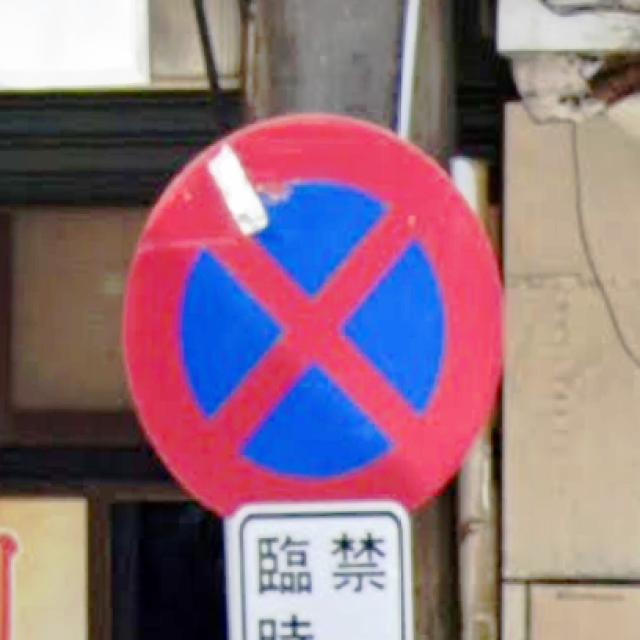nostop: (116, 108, 508, 520)
